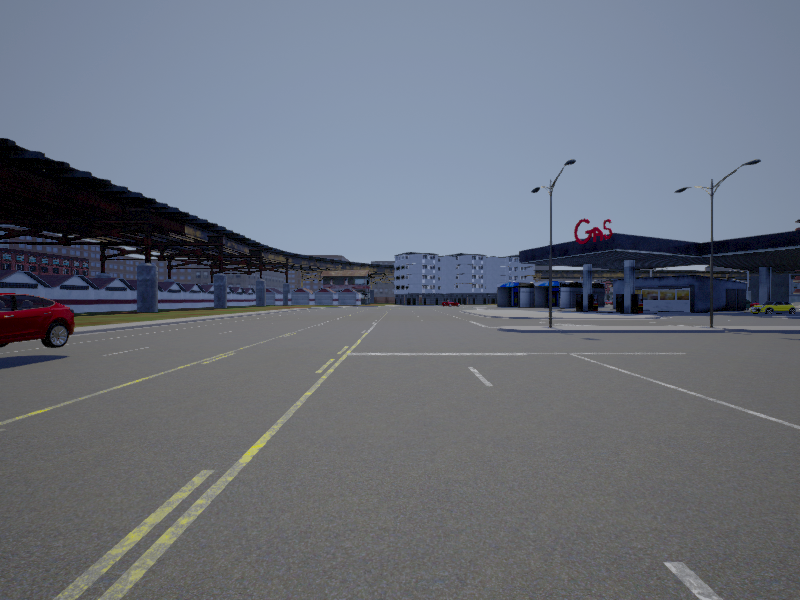Attacker: (1, 294, 74, 347)
